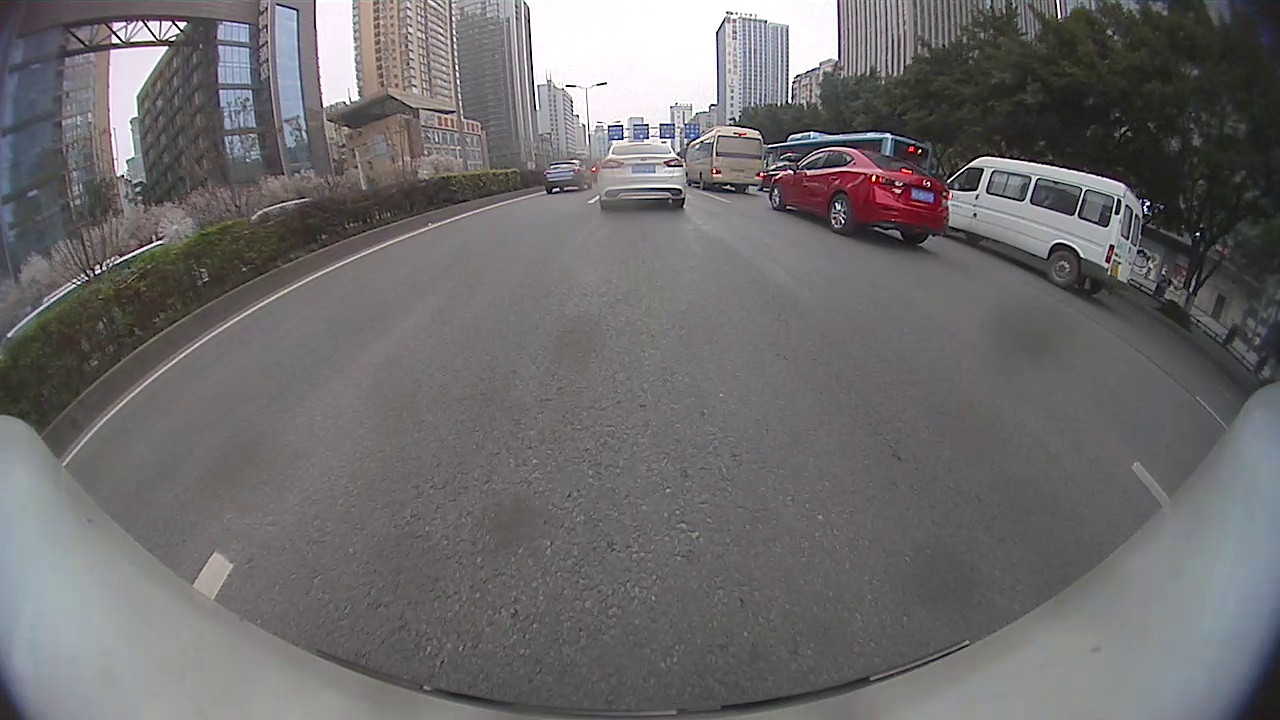bus: (785, 129, 929, 178), (685, 124, 763, 191)
car: (947, 155, 1139, 298), (769, 144, 951, 245), (594, 141, 687, 208), (541, 159, 592, 193)
front: (768, 184, 783, 209)
rear: (1046, 250, 1079, 287), (826, 193, 853, 235)
